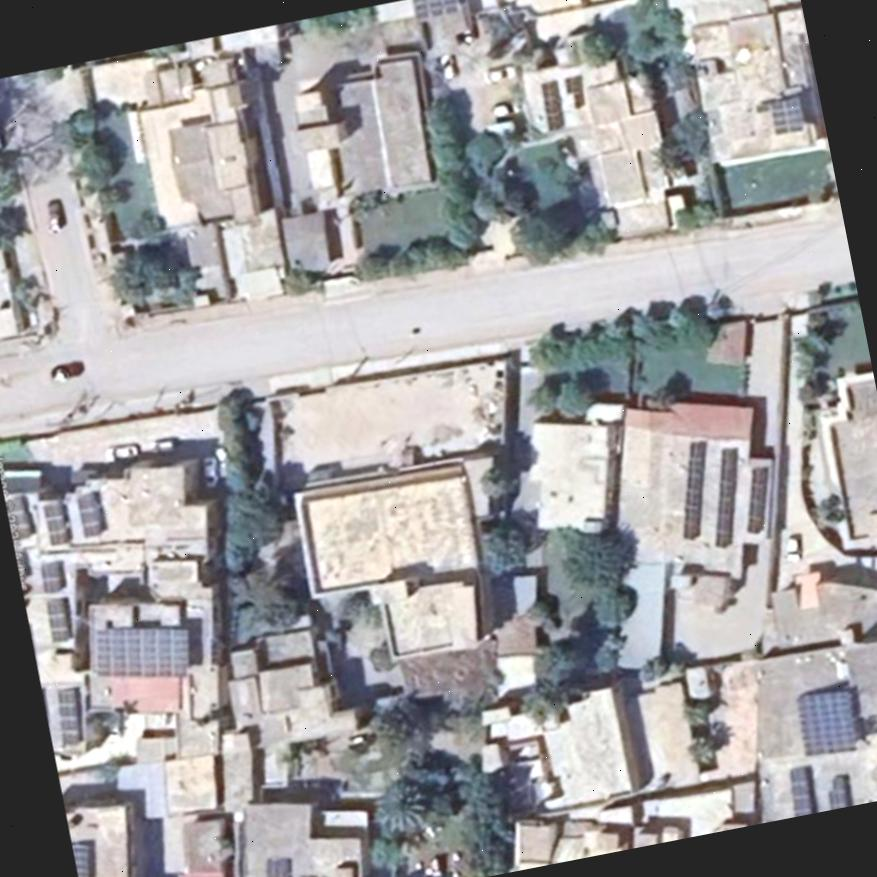Solarpanel: (90, 626, 185, 675), (799, 696, 856, 753), (683, 443, 704, 537), (715, 448, 733, 548), (744, 465, 769, 532), (57, 688, 80, 742), (771, 95, 800, 137), (76, 492, 101, 537), (787, 769, 812, 813), (5, 496, 28, 543), (42, 500, 66, 541), (414, 0, 458, 18), (543, 82, 558, 130), (48, 598, 65, 640), (829, 775, 847, 808), (72, 843, 87, 877), (42, 561, 58, 591)
